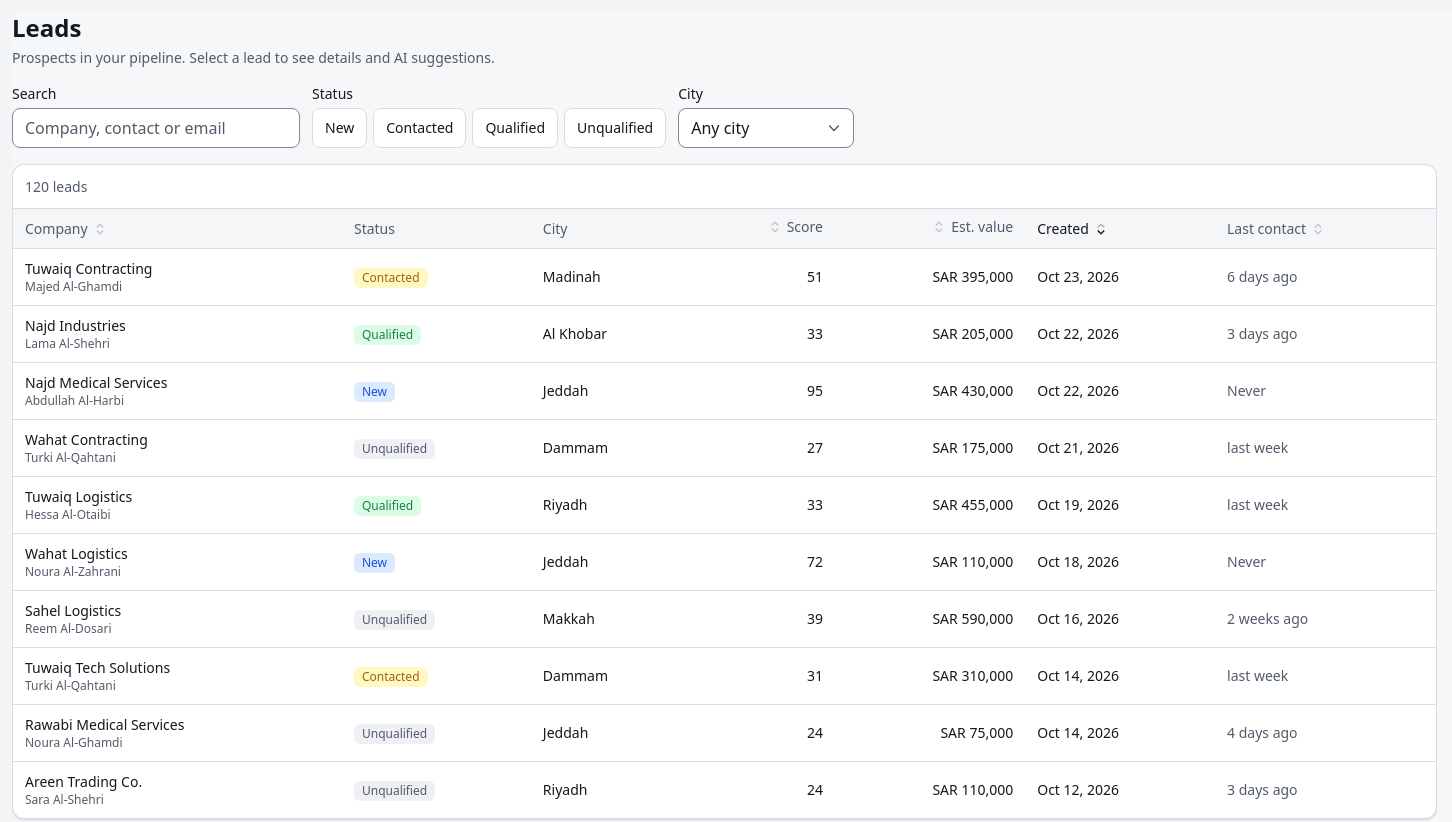
Test: leads list states › loads a page and keeps filters in the URL
Expected: the text "120 leads" is shown, [25,176,87,196]
Click the checkbox labelled "Qualified" at [515, 128], box [472,108,558,148]
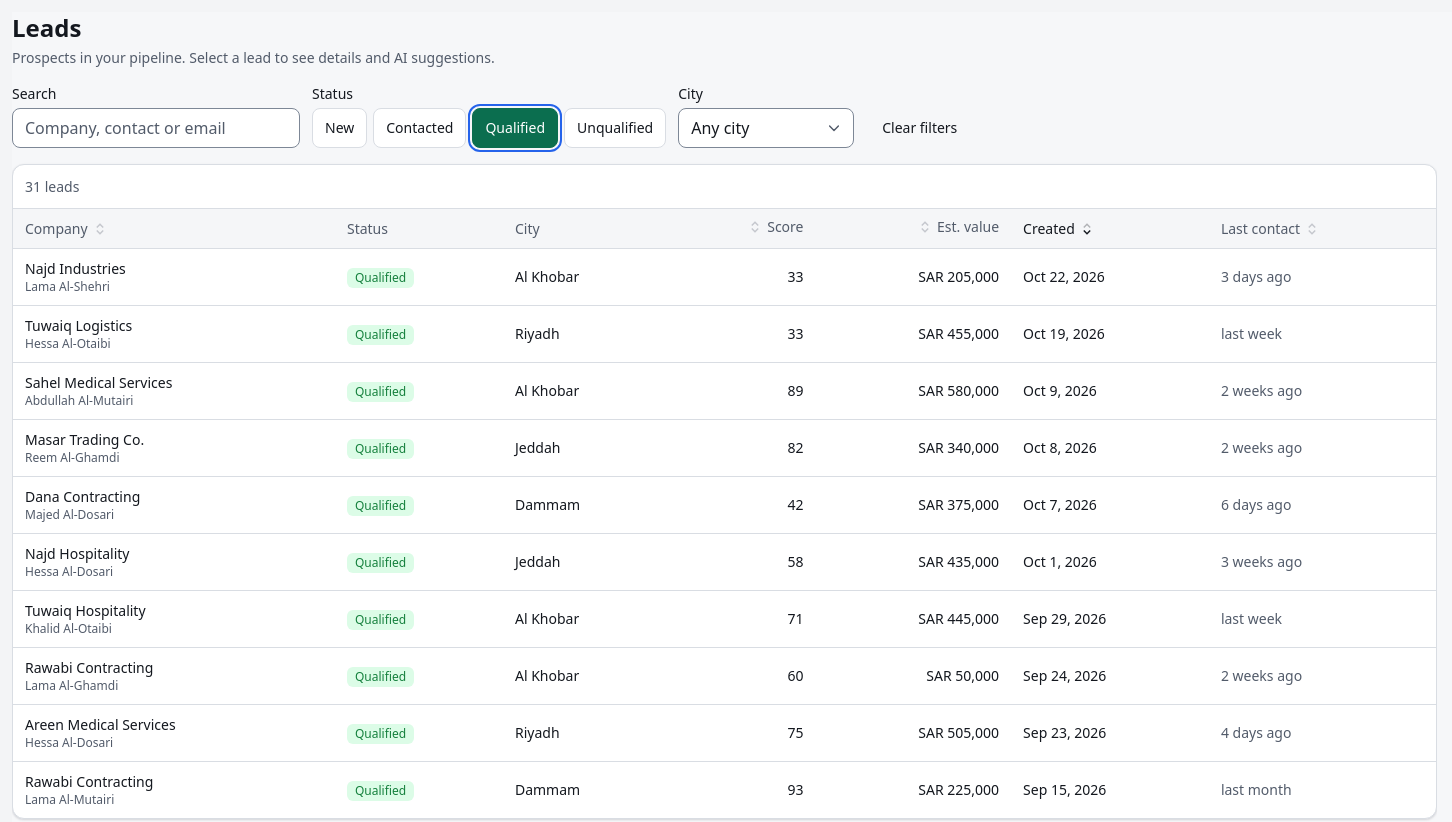
Now the row that starts with "Sahel Medical Services" shows "Qualified", box [355,382,406,400]
Now the row that starts with "Masar Trading Co." shows "Qualified", box [355,440,406,456]
Now the row that starts with "Najd Hospitality" shows "Qualified", box [355,554,406,570]
